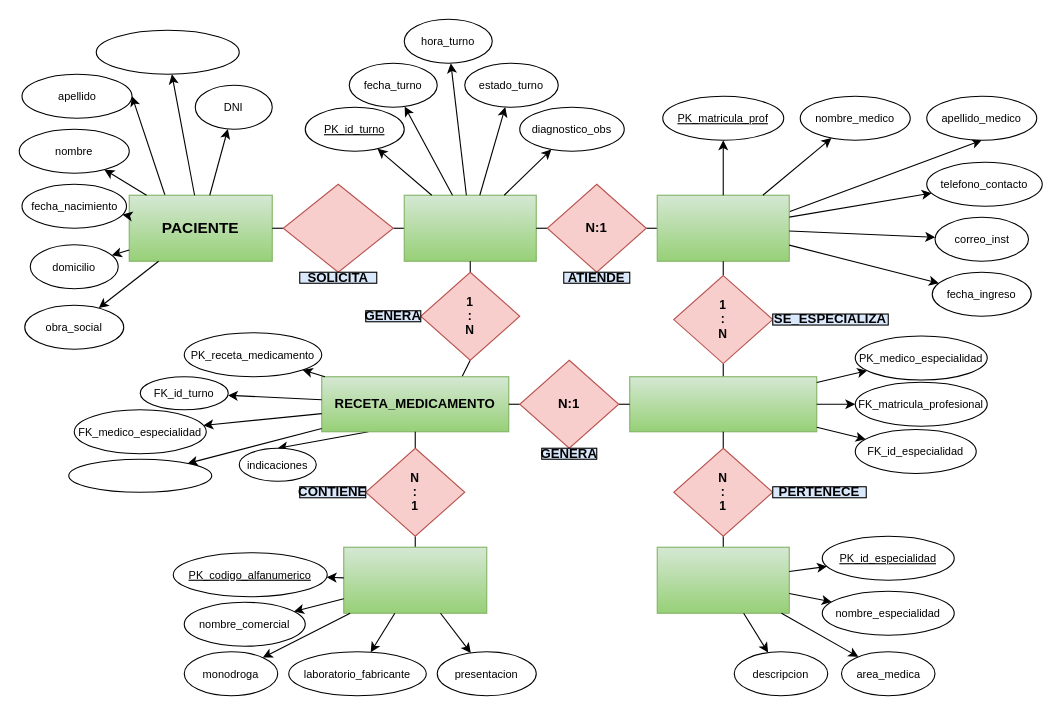
Some shapes in this 1062 by 715 pixel diagram are drawn without their labels. The shapes that lost their labels are listed below. From the top down, each one's centre as x and y in pixels, then its label:
At (167,51): "PK_num_historia_clinica".
At (337,227): "1:N".
At (469,227): "TURNO".
At (722,227): "MEDICO".
At (723,404): "MEDICO_ESPECIALIDAD".
At (140,475): "FK_codigo_alfanumerico".
At (415,579): "MEDICAMENTO".
At (722,579): "ESPECIALIDAD".
